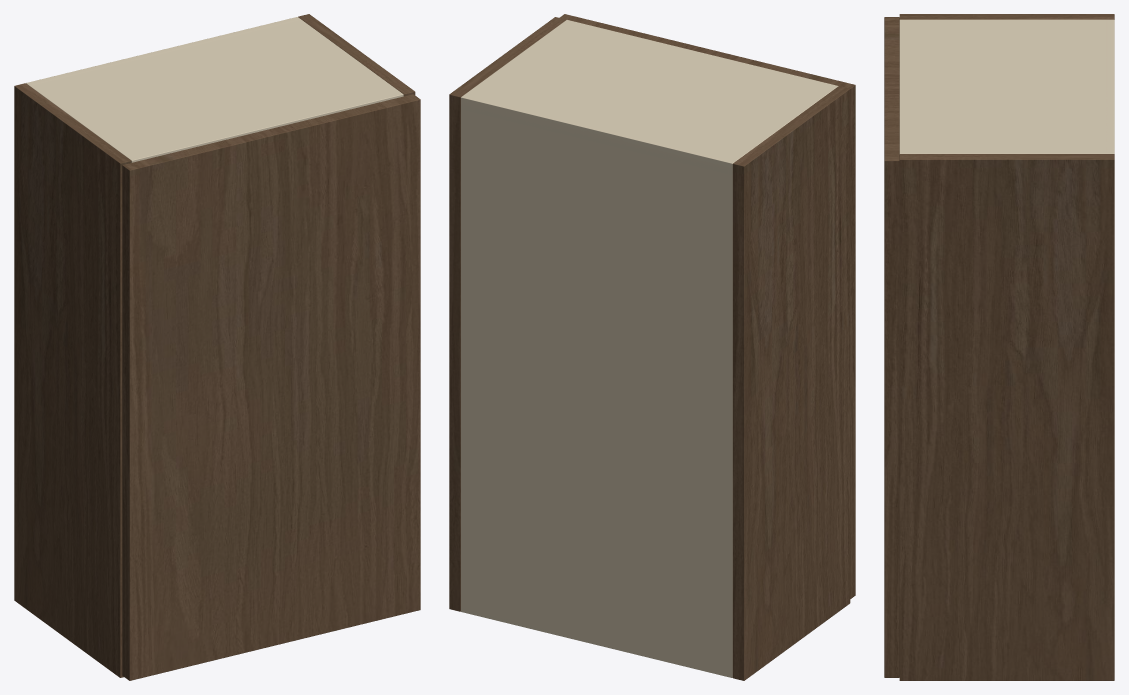
File: oppein-ply-mso-w1830.glb
3 views of the same model, side by side, from view 1: azimuth 30°, elevation 25°; view 2: azimuth 150°, elevation 25°; view 3: azimuth 270°, elevation 25° (orthographic).
Visible parts, largest first — view 1: Door, Cabinet side, Cabinet top, Cabinet side.001, Cabinet back; view 2: Cabinet back, Cabinet side, Cabinet top, Cabinet side.001, Door; view 3: Cabinet side.001, Cabinet top, Door, Cabinet side, Cabinet back.
Boxes of the visible parts, x1,y1,x2,y2 form: Door: [122, 94, 420, 680]; Cabinet side: [14, 83, 131, 677]; Cabinet top: [26, 19, 403, 162]; Cabinet side.001: [298, 14, 415, 96]; Cabinet back: [27, 17, 300, 85]; Cabinet back: [461, 95, 735, 677]; Cabinet side: [732, 86, 850, 680]; Cabinet top: [461, 20, 838, 174]; Cabinet side.001: [449, 17, 566, 611]; Door: [559, 14, 855, 598]; Cabinet side.001: [899, 154, 1114, 680]; Cabinet top: [899, 19, 1114, 153]; Door: [884, 17, 899, 677]; Cabinet side: [899, 14, 1114, 19]; Cabinet back: [1106, 19, 1114, 153].
Bounding box in the file's own units: 0.4572 × 0.762 × 0.3048.
2 materials, 1 textured.
